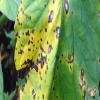Tomato Septoria leaf spot: (12, 1, 100, 100)
